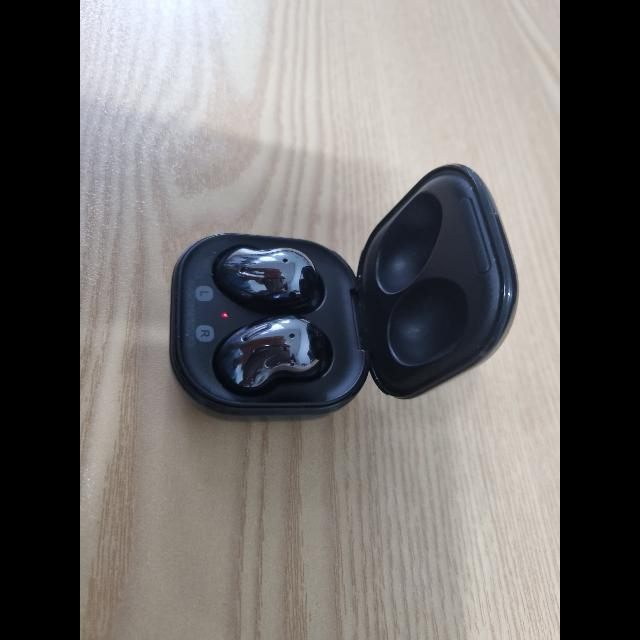buds_live: (166, 161, 520, 425)
